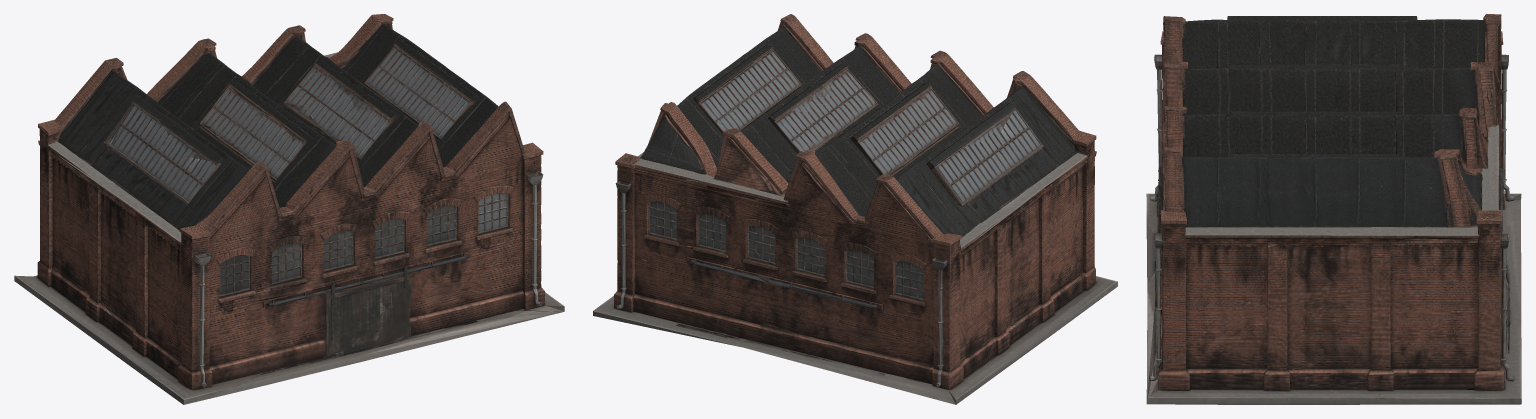
The model's file is sawtooth_hall__a.glb.
The picture shows the model from 3 angles, left to right: view 1: azimuth 30°, elevation 25°; view 2: azimuth 150°, elevation 25°; view 3: azimuth 270°, elevation 25°; orthographic projection. The views are drawn at different scales.
Size of the model in its own units: 1.9 by 1 by 1.47.
1 material, 1 textured.
